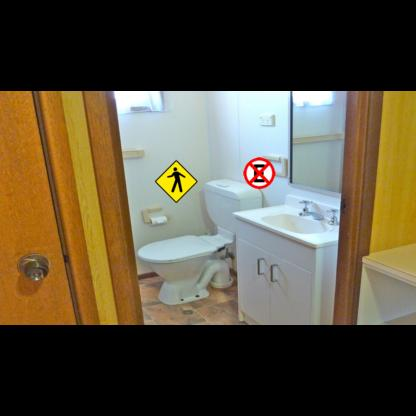A-32a: (155, 160, 198, 203)
R-6c: (243, 157, 275, 189)
